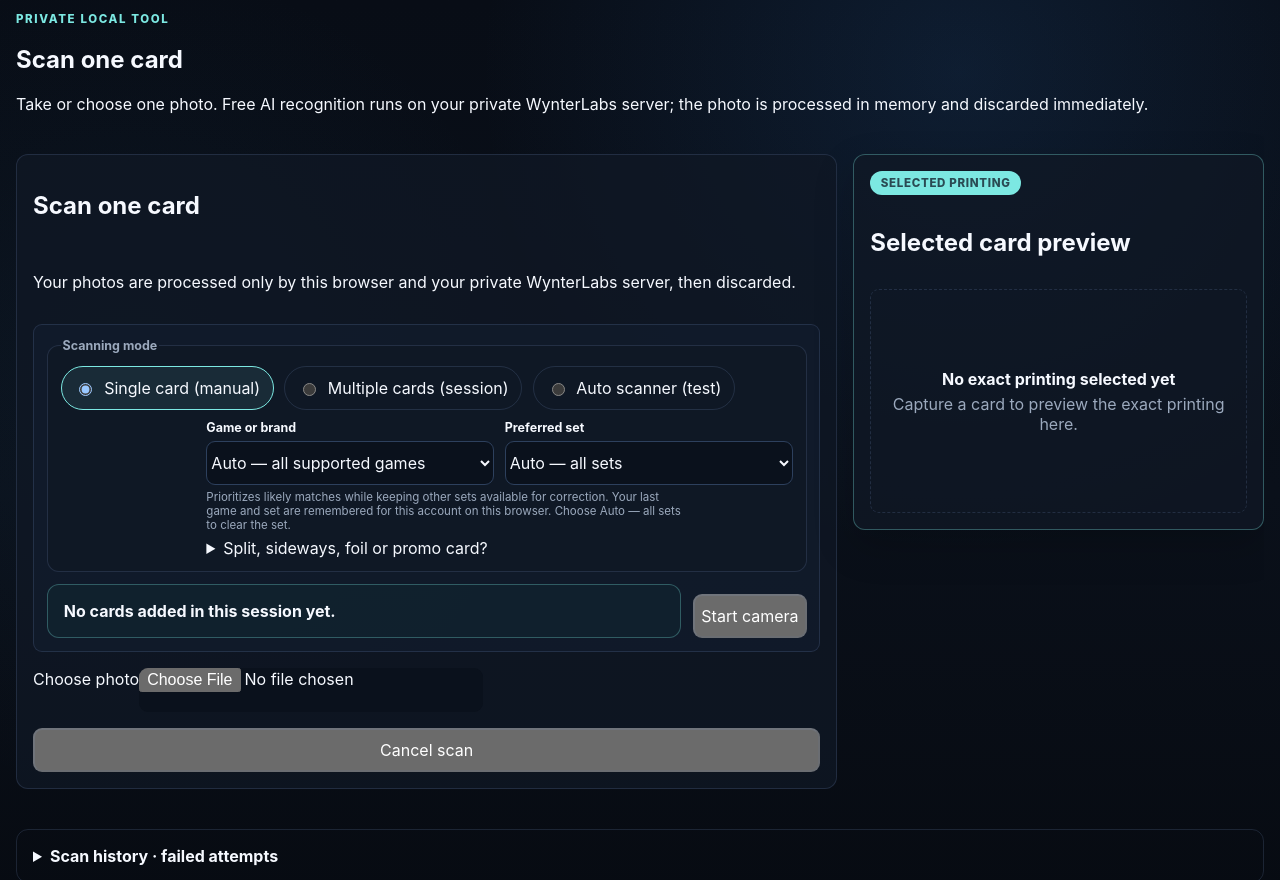
connects the automatic simulator after the StrictMode effect replay
Click the radio button labelled "Auto scanner (test)": (558,389) x1=552 y1=383 x2=564 y2=396
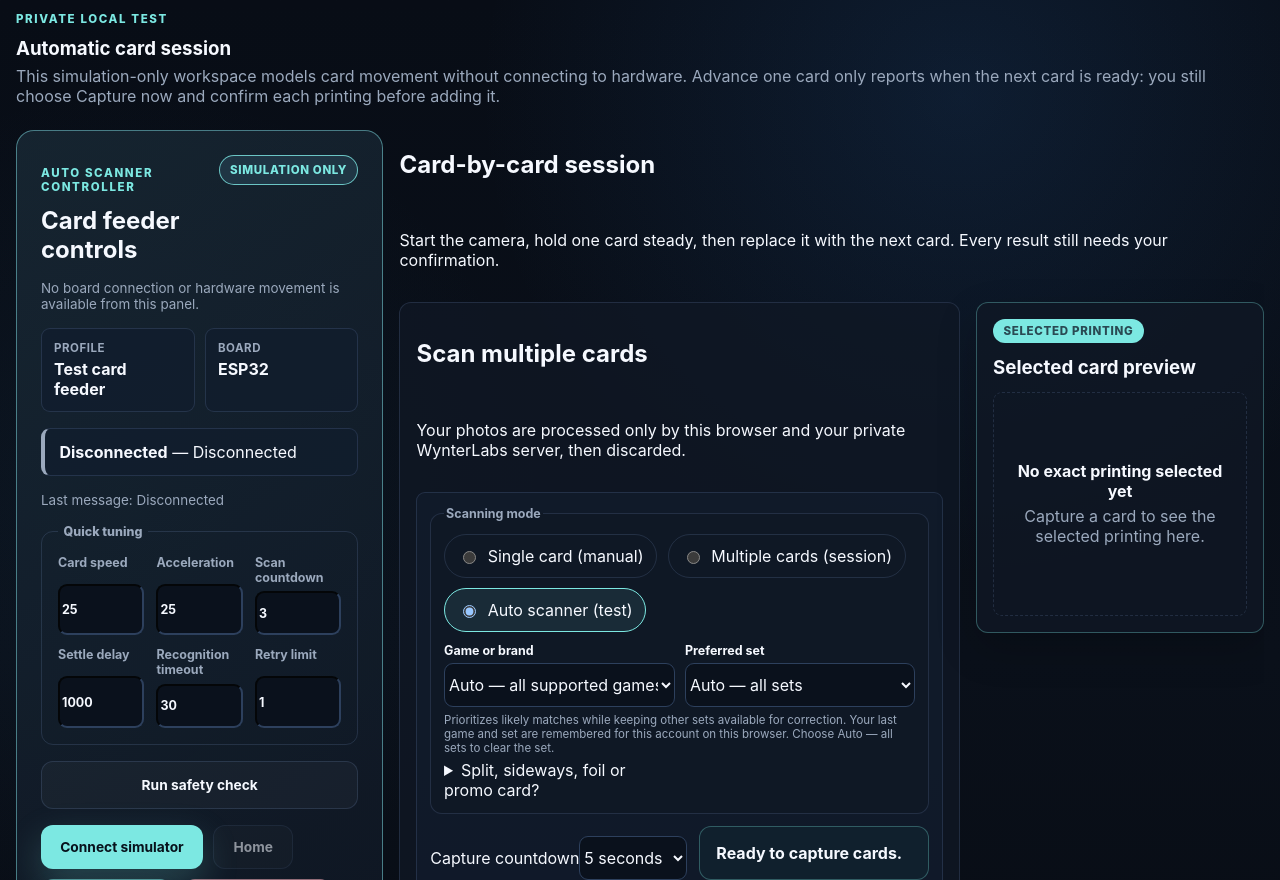
Click the button "Connect simulator": (122,847) x1=41 y1=825 x2=203 y2=869
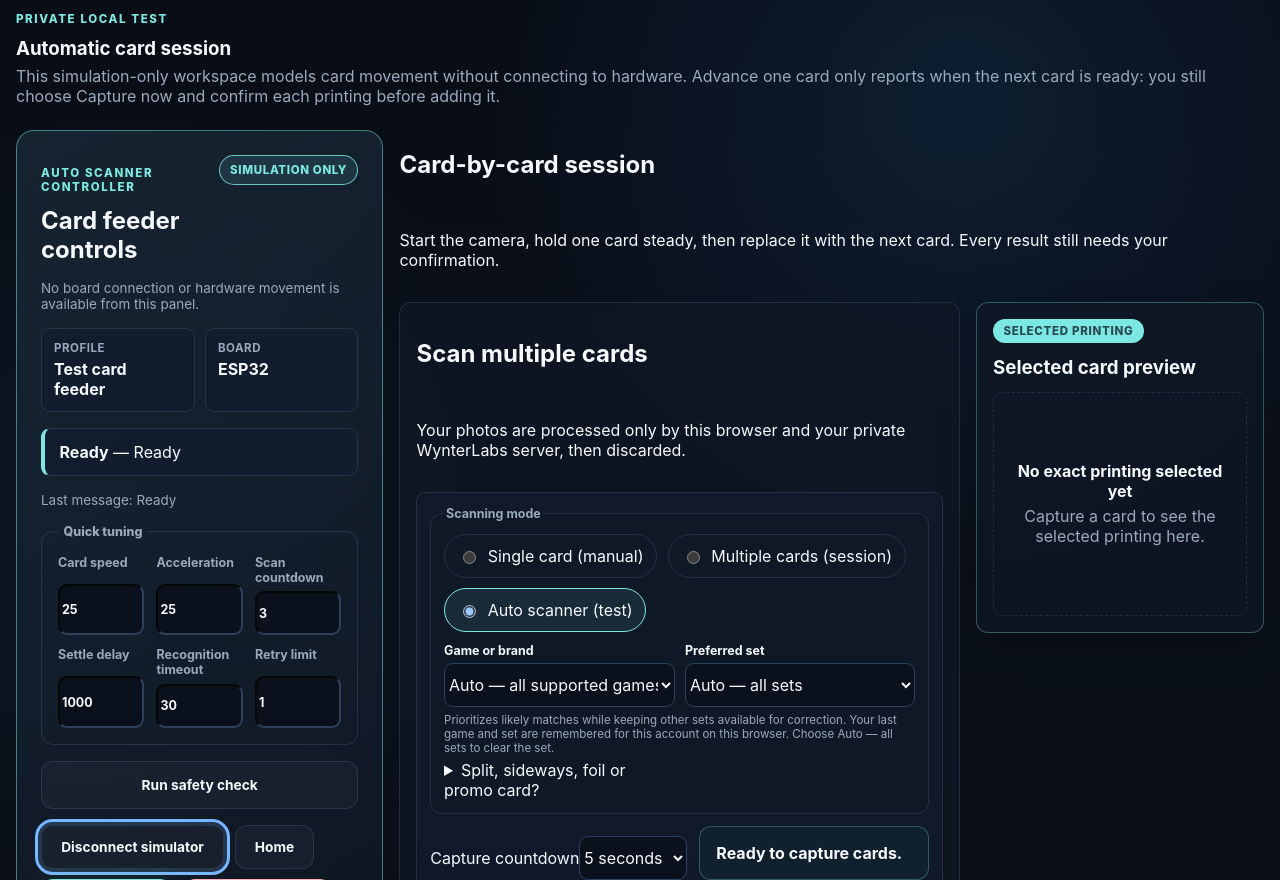
Check: the message named "Controller status" shows "ready", box x1=59 y1=442 x2=109 y2=462
